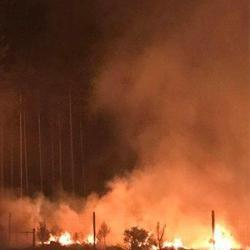fire: (207, 224, 233, 248)
smoke: (171, 34, 250, 196)
